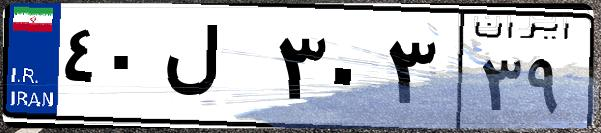0: (330, 28, 385, 110), (110, 28, 158, 98)
3: (270, 28, 330, 110), (385, 28, 445, 110), (475, 38, 525, 113)
4: (57, 26, 110, 100)
9: (525, 38, 570, 115)
ل: (158, 20, 270, 120)
